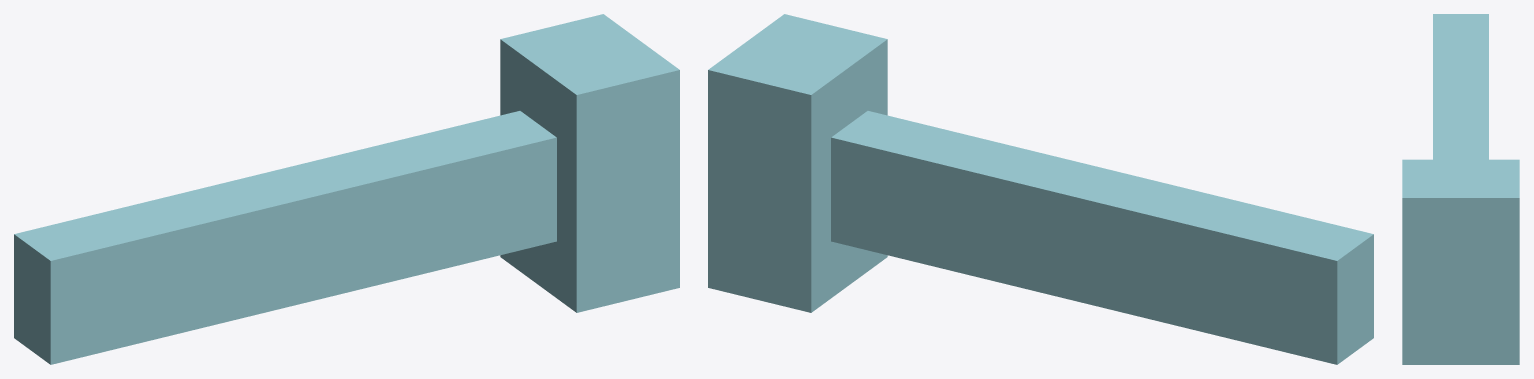
The model's file is cuboid_hammer_v015.obj.
3 renders of one model, left to right at view 1: azimuth 30°, elevation 25°; view 2: azimuth 150°, elevation 25°; view 3: azimuth 270°, elevation 25°, orthographic. The views are drawn at different scales.
Size of the model in its own units: 0.2081 by 0.0711 by 0.0452.
Materials: 1 (1 with a texture image).
